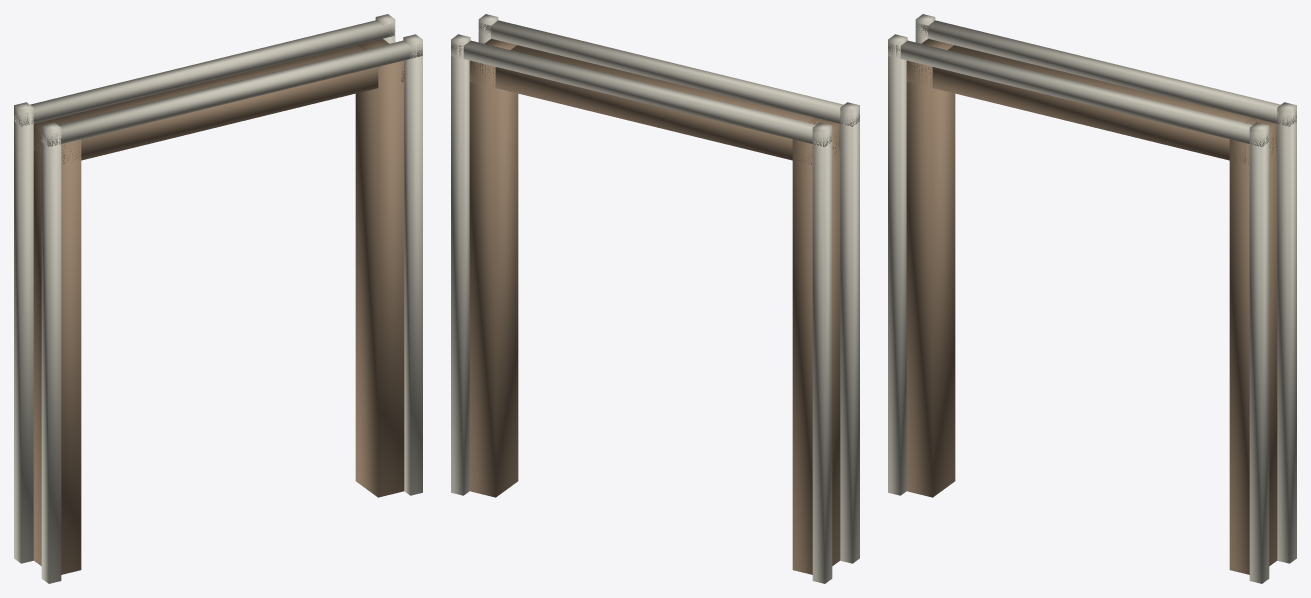
The model's file is doorway_painted_trim_w182_h240_d24.glb.
3 renders of one model, left to right at view 1: azimuth 30°, elevation 25°; view 2: azimuth 150°, elevation 25°; view 3: azimuth 330°, elevation 25°, orthographic.
Visible parts, largest first — view 1: world; view 2: world; view 3: world.
Boxes of the visible parts, <box> form: world: <box>14,14,422,583</box>; world: <box>451,14,859,583</box>; world: <box>888,14,1296,583</box>.
Size of the model in its own units: 2.29 by 2.66 by 0.3706.
